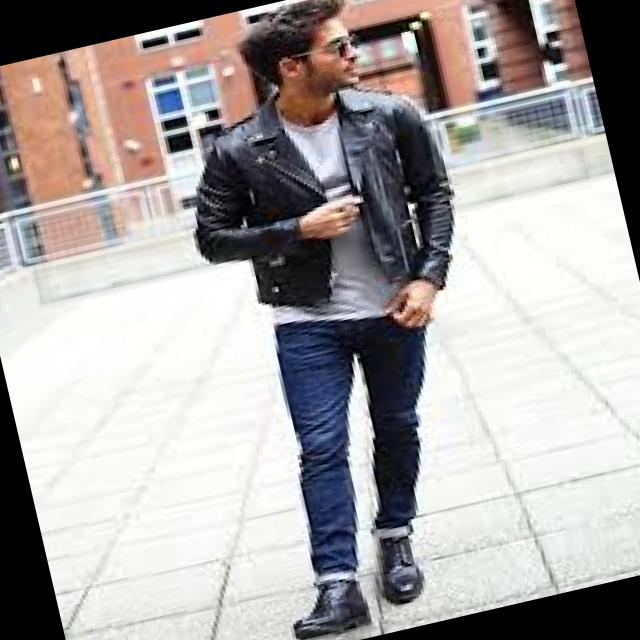Jacket: (165, 60, 475, 326)
